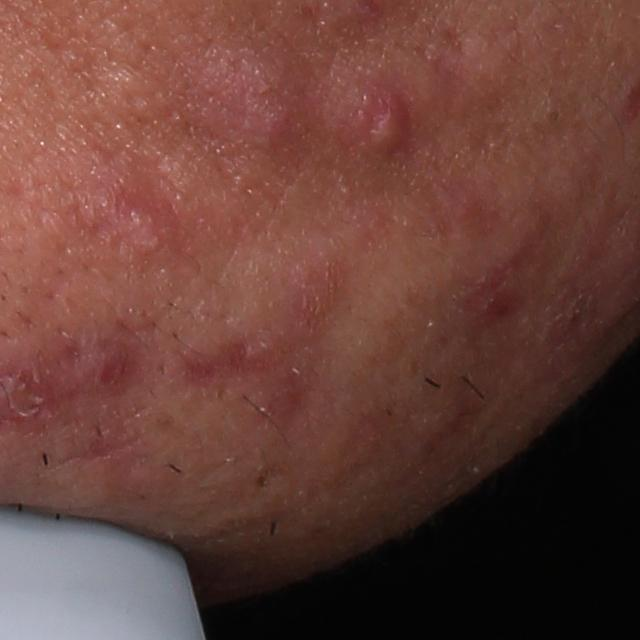comedo: (541, 103, 568, 128)
nodule: (160, 30, 316, 179)
